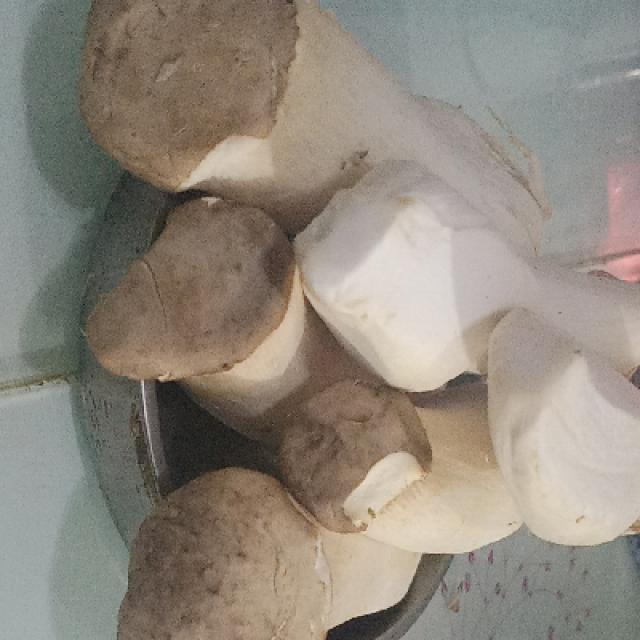Pleurotus eryngii: (77, 0, 640, 640)
